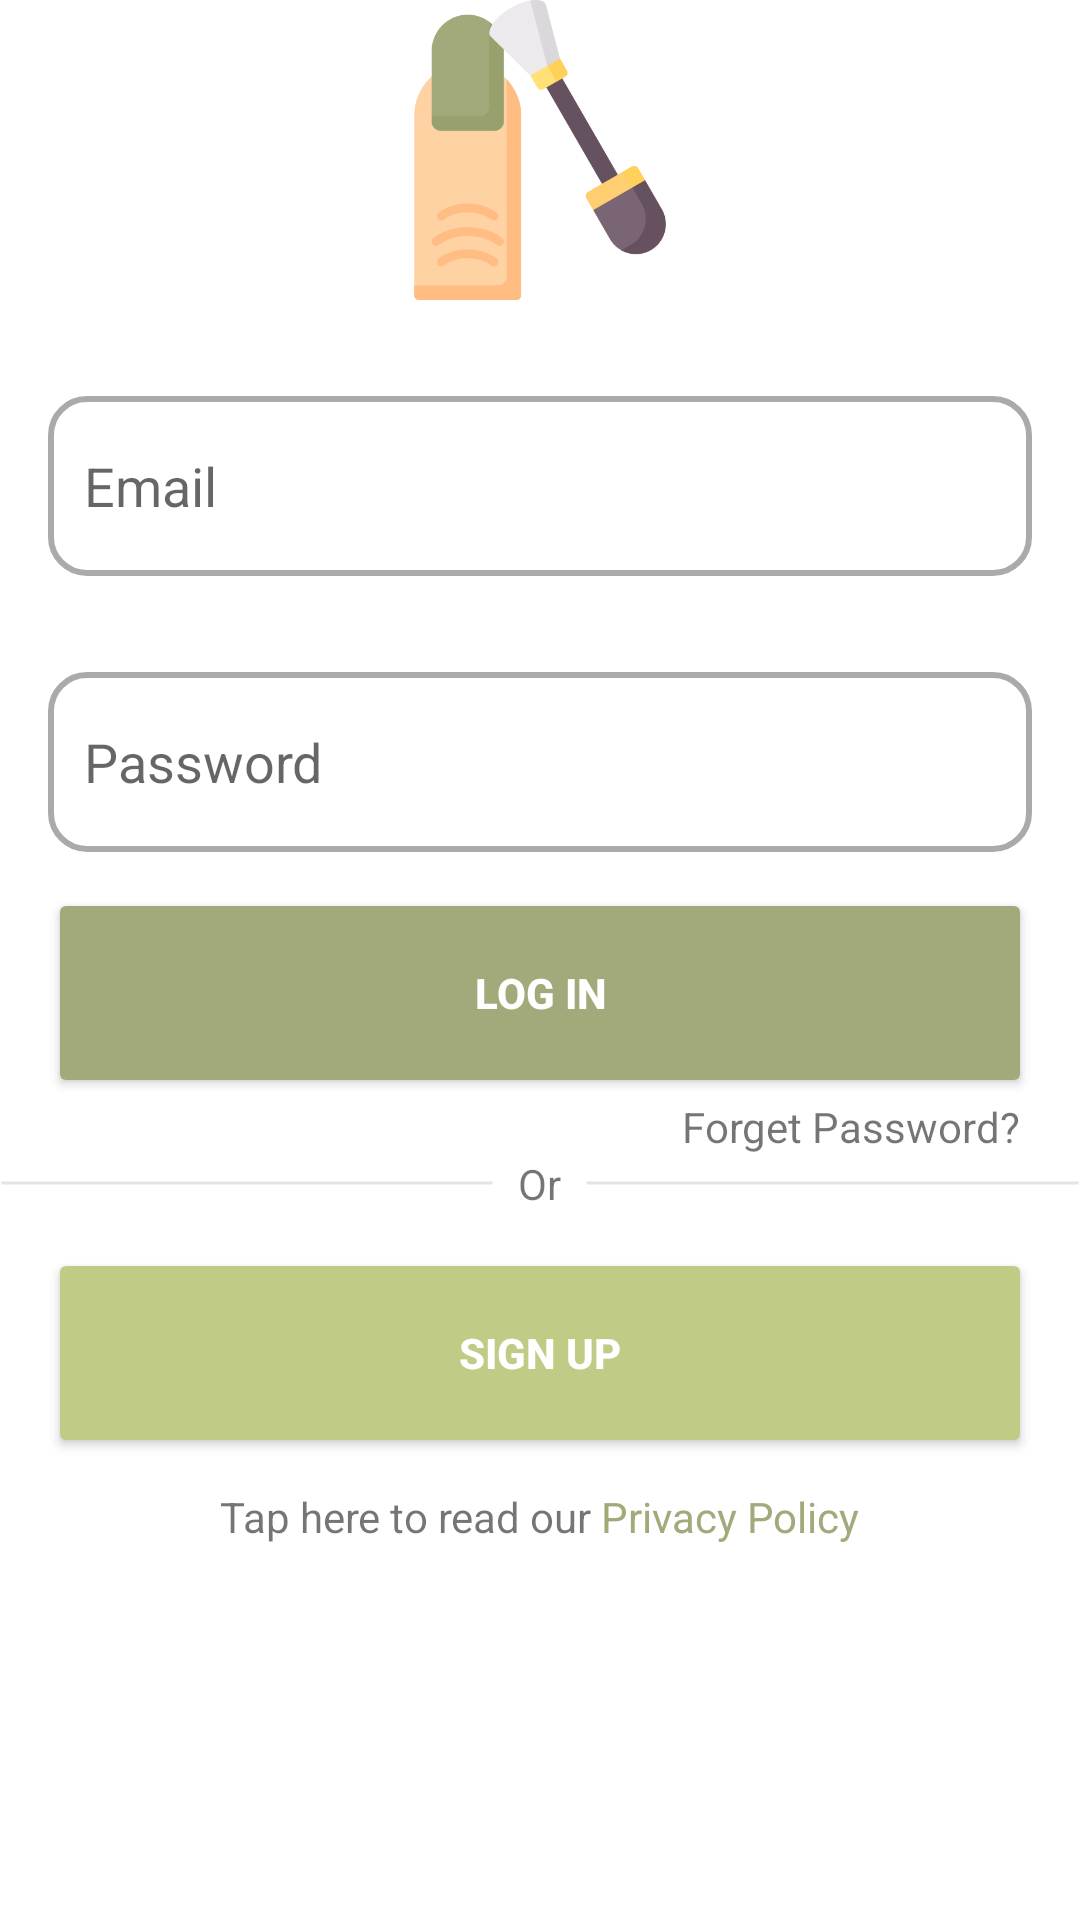

Named icons in this screenshot (1080×1920) and their bounding boxes, [x1,y1,x2,y2]:
nail custom: [414,0,666,300]
